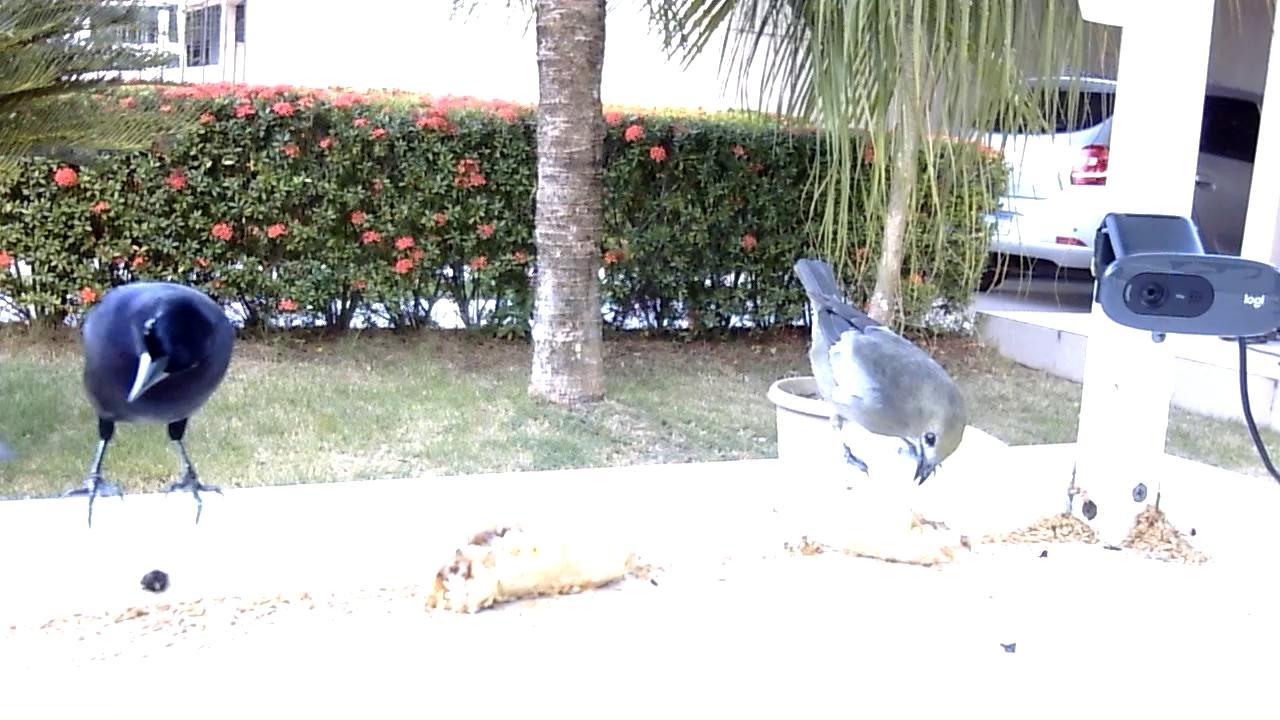chupim: (59, 276, 242, 536)
sanhaco_do_coqueiro: (793, 256, 972, 492)
